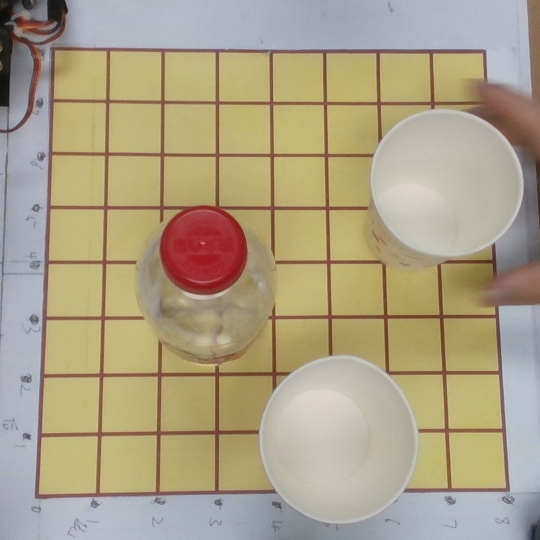bottle: (123, 206, 279, 375)
cup: (251, 352, 417, 527), (360, 107, 523, 282)
